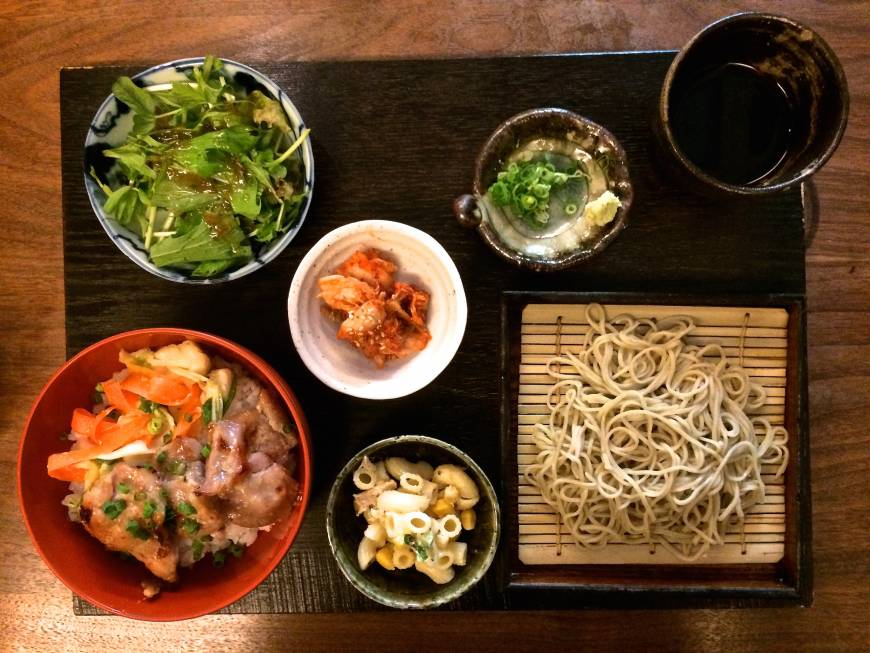Soba: (534, 312, 792, 548)
